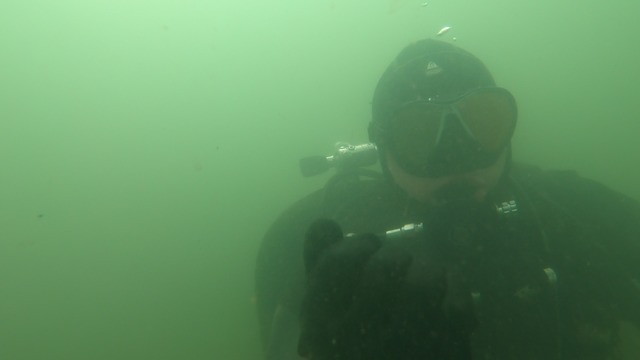Diver: (205, 9, 626, 356)
Head: (356, 33, 533, 232)
